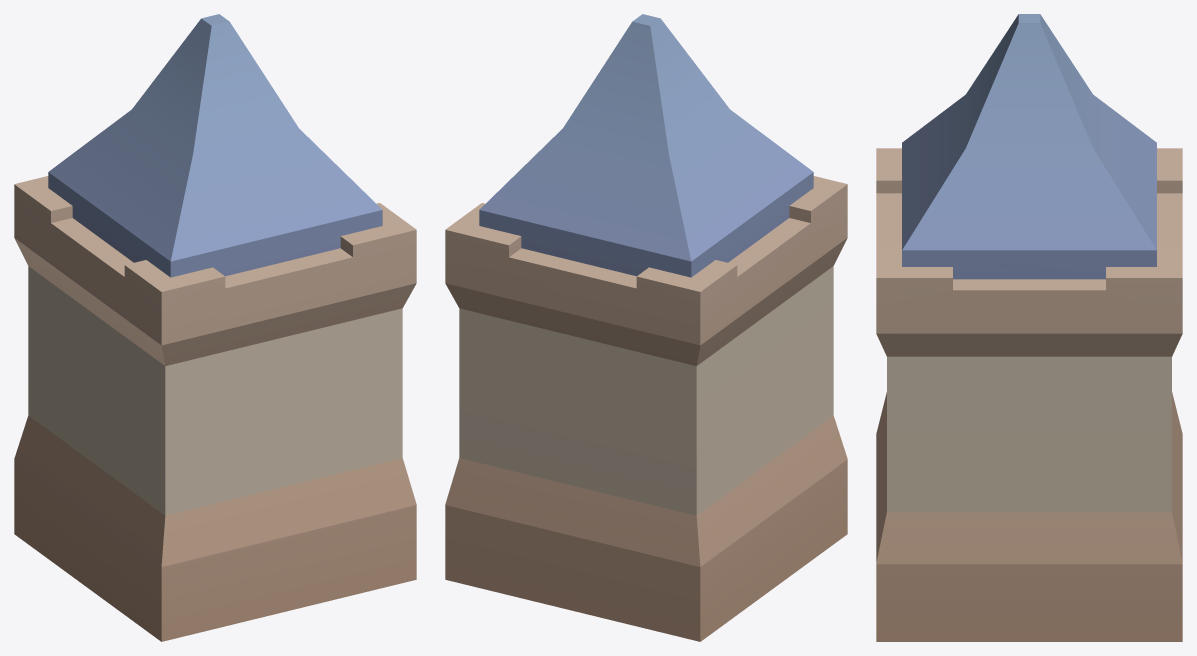
Rendered from tower-square-roof.glb.
3 renders of one model, left to right at view 1: azimuth 30°, elevation 25°; view 2: azimuth 150°, elevation 25°; view 3: azimuth 270°, elevation 25°, orthographic. The views are drawn at different scales.
Parts seen in each view (by area): view 1: tower-square-roof; view 2: tower-square-roof; view 3: tower-square-roof.
Part boxes in pixels (<box>): tower-square-roof: <box>14,14,416,641</box>; tower-square-roof: <box>445,14,847,641</box>; tower-square-roof: <box>876,14,1182,641</box>.
Bounding box in the file's own units: 1 × 2.01 × 1.
